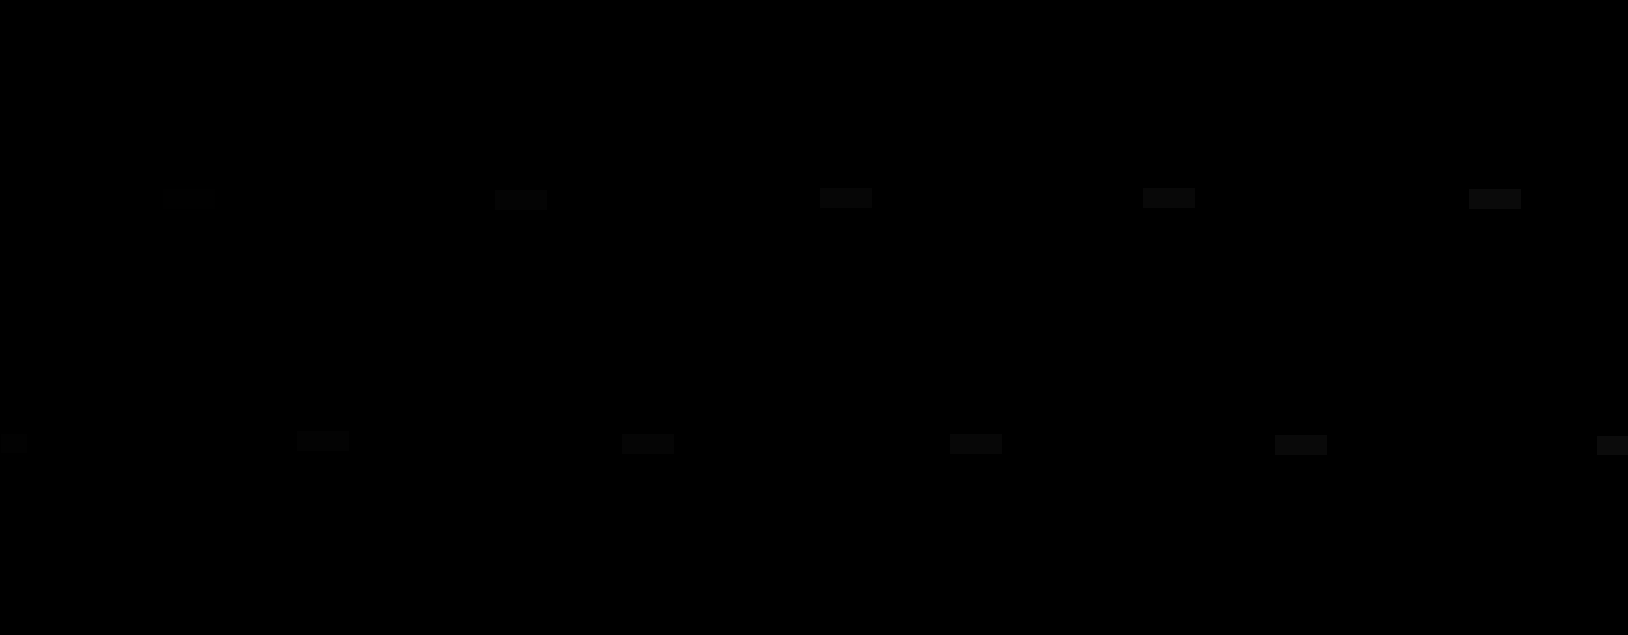light: (297, 431, 349, 451), (622, 434, 674, 454), (950, 434, 1002, 454), (1275, 435, 1327, 455), (163, 189, 215, 209), (495, 190, 547, 210), (820, 188, 872, 208), (1143, 188, 1195, 208), (1469, 189, 1521, 209), (1597, 436, 1628, 455), (1, 434, 27, 453)
